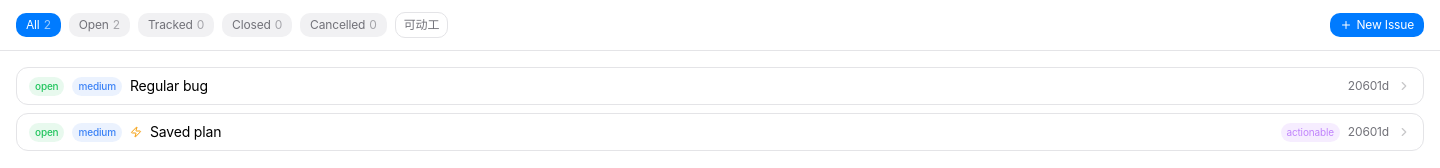
LocalIssuesPanel - actionable filter › filters to actionable issues when the chip is active
Expected: the text "Regular bug" is shown, x1=130 y1=77 x2=208 y2=94
Expected: the text "Saved plan" is shown, x1=150 y1=123 x2=221 y2=140
Click the button "可动工": (421, 25) x1=395 y1=12 x2=448 y2=38
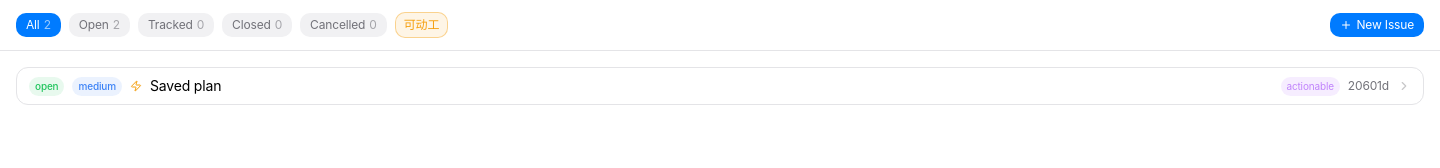
Expected: the text "Saved plan" is shown, x1=150 y1=77 x2=221 y2=94
Now the button "Regular bug" is gone
